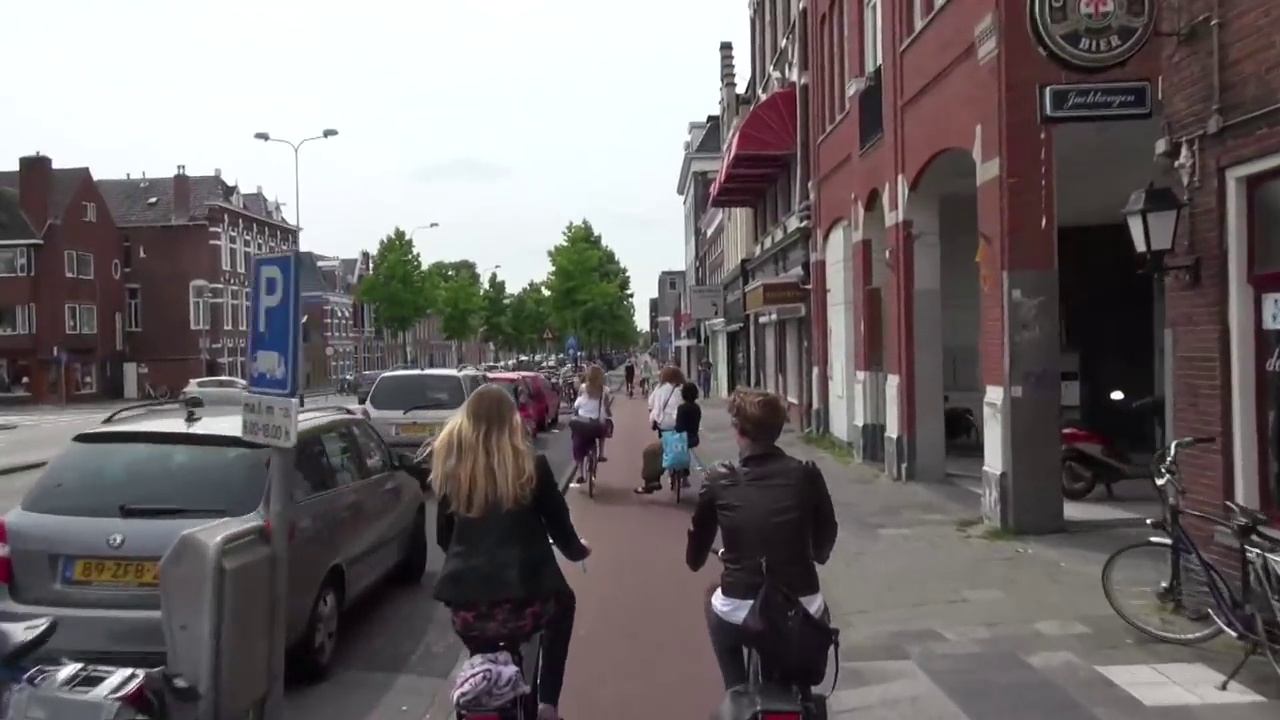cyclist_back: (425, 376, 585, 711), (699, 394, 859, 713), (641, 365, 697, 515), (571, 365, 608, 496)
